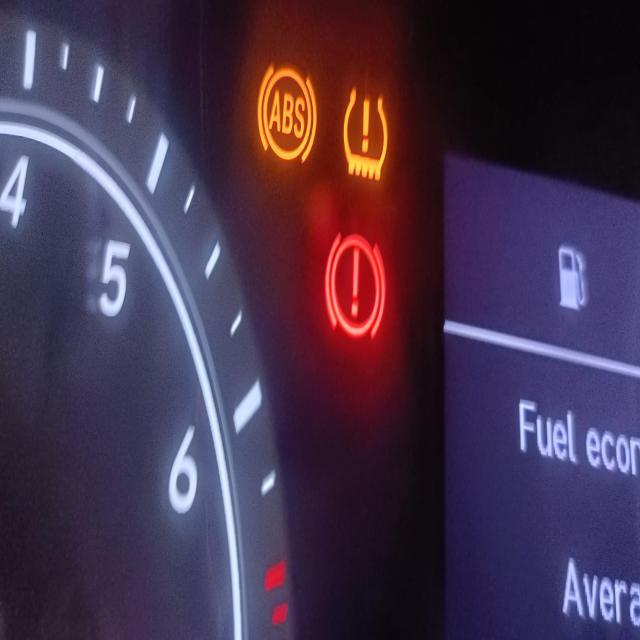ABS: (250, 56, 323, 173)
HandBrakeWarning: (317, 222, 388, 349)
LowFuel: (552, 224, 592, 333)
TyrePressureLow: (337, 80, 399, 186)
